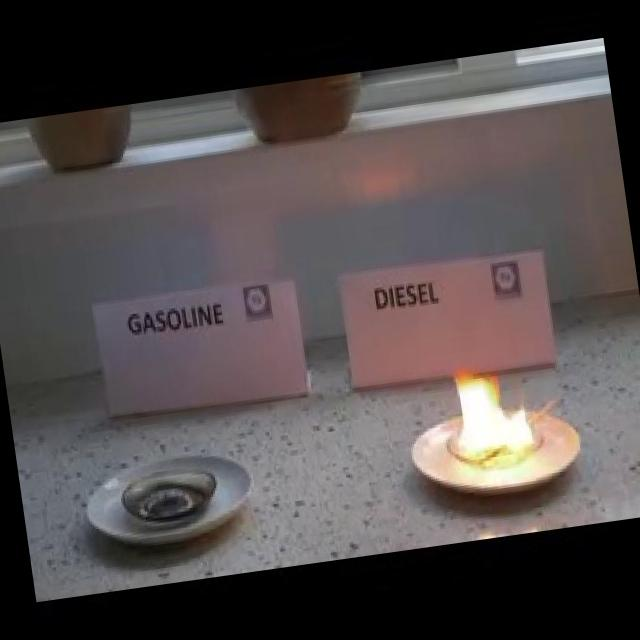Fire: (448, 358, 538, 470)
